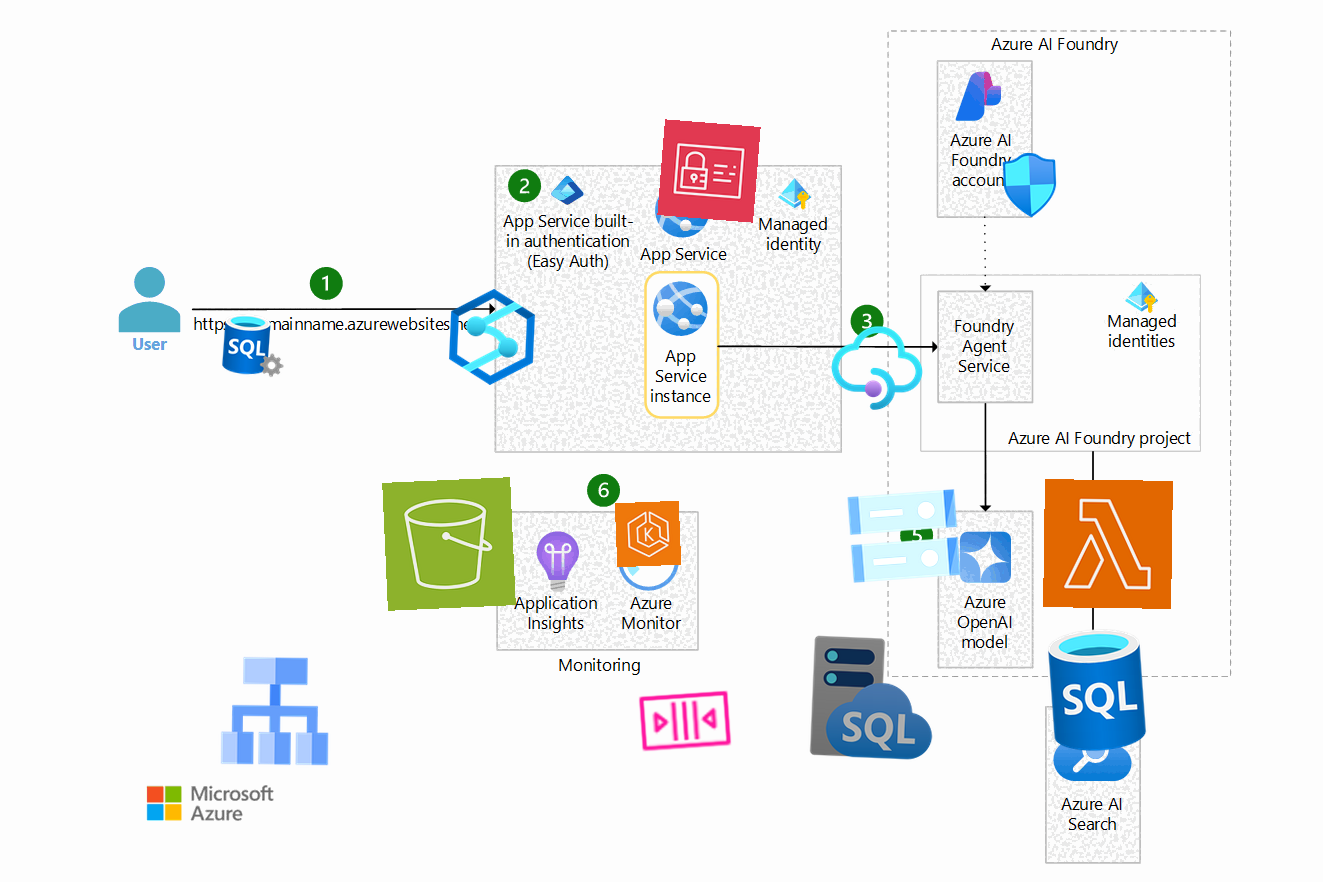aws_amazon_elastic_kubernetes_service: (614, 500, 682, 568)
aws_amazon_simple_storage_service: (382, 477, 516, 611)
aws_identity_and_access_management: (657, 119, 761, 223)
aws_lambda: (1043, 479, 1173, 609)
aws_simple_queue_service_queue: (633, 668, 737, 772)
azure_api_management_services: (828, 319, 926, 417)
azure_network_security_groups: (996, 151, 1064, 219)
azure_sql_database: (1028, 621, 1166, 759)
azure_sql_managed_instance: (806, 631, 940, 765)
azure_sql_server: (219, 310, 289, 380)
azure_synapse_analytics: (441, 286, 543, 388)
gcp_cloud_load_balancing: (210, 646, 340, 776)
gcp_cloud_storage: (835, 467, 973, 605)
